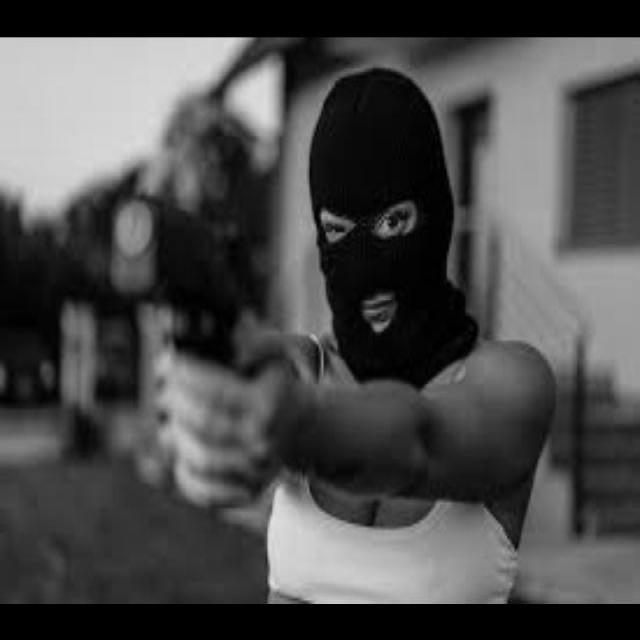6_pasamontana: (307, 66, 478, 386)
